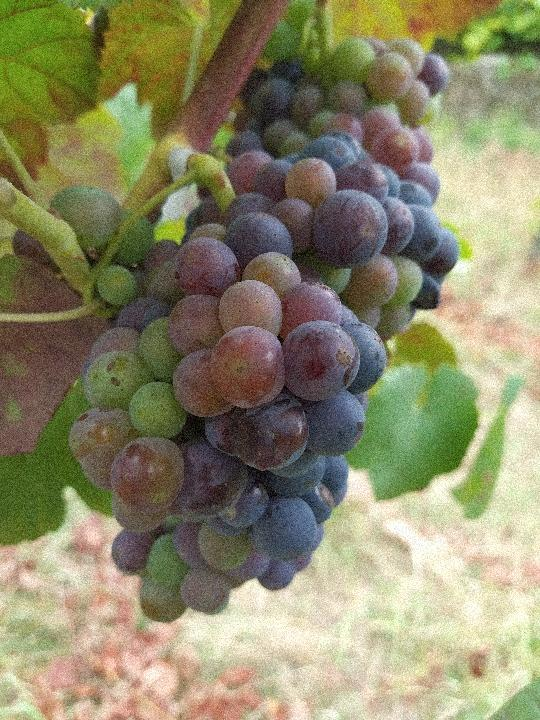grape: (65, 134, 462, 627)
